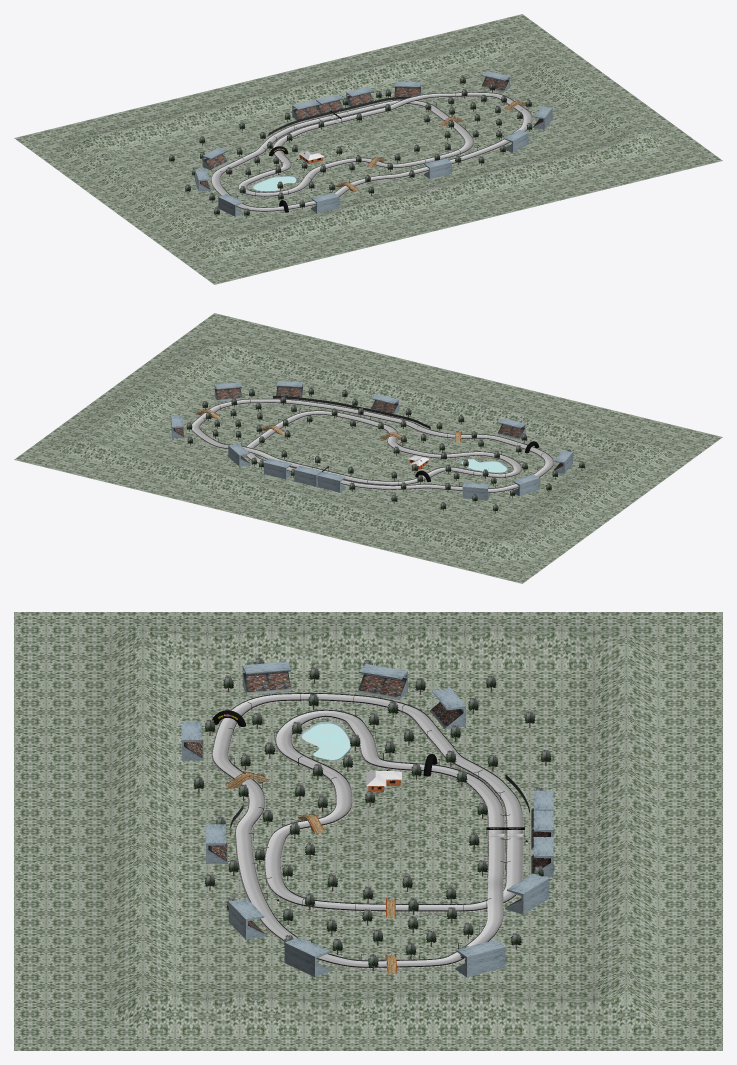
Rendered from twolanes.fbx.
3 renders of one model, top to bottom at view 1: azimuth 30°, elevation 25°; view 2: azimuth 150°, elevation 25°; view 3: azimuth 270°, elevation 25°, orthographic. The views are drawn at different scales.
Visible parts, largest first — view 1: ChristmasTest.w.002, ChristmasTest.w.001, ChristmasTest.w.003; view 2: ChristmasTest.w.002, ChristmasTest.w.001; view 3: ChristmasTest.w.002, ChristmasTest.w.001, ChristmasTest.w.003, ChristmasTest.w.004.
Part boxes in pixels (box(x1,y1,x2,y2)): ChristmasTest.w.002: box(14, 14, 722, 284); ChristmasTest.w.001: box(169, 71, 552, 217); ChristmasTest.w.003: box(273, 100, 526, 191); ChristmasTest.w.002: box(14, 313, 722, 583); ChristmasTest.w.001: box(171, 381, 584, 513); ChristmasTest.w.002: box(14, 612, 722, 1050); ChristmasTest.w.001: box(181, 657, 553, 977); ChristmasTest.w.003: box(217, 713, 397, 974); ChristmasTest.w.004: box(366, 771, 522, 837).
Size of the model in its own units: 39390 by 2156 by 26903.
4 materials, 4 textured.
